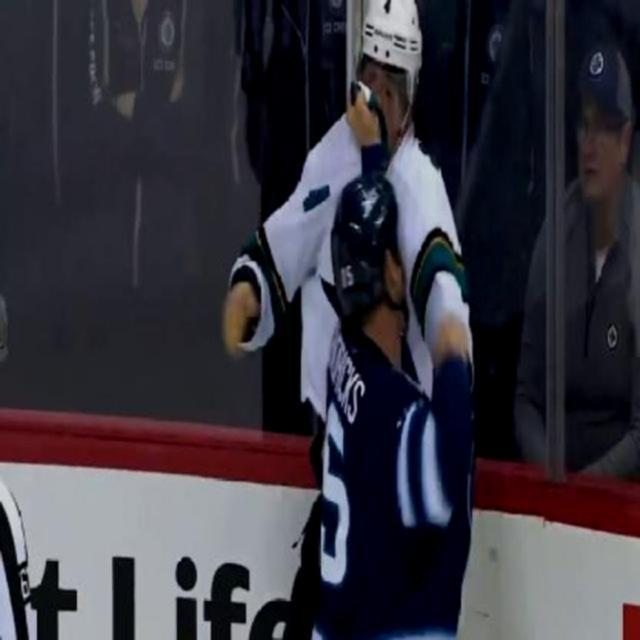fight: (221, 0, 476, 638)
